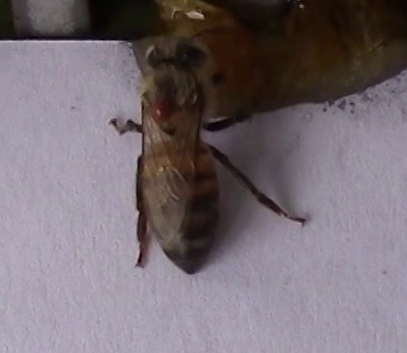Varroa destructor: (153, 93, 176, 122)
